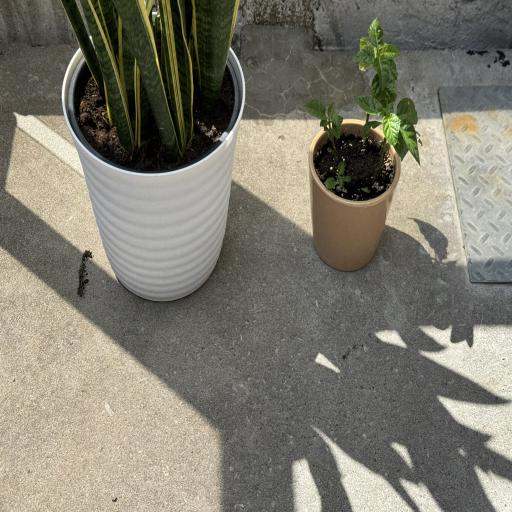Plant Pot: (63, 33, 244, 301), (310, 122, 402, 272)
